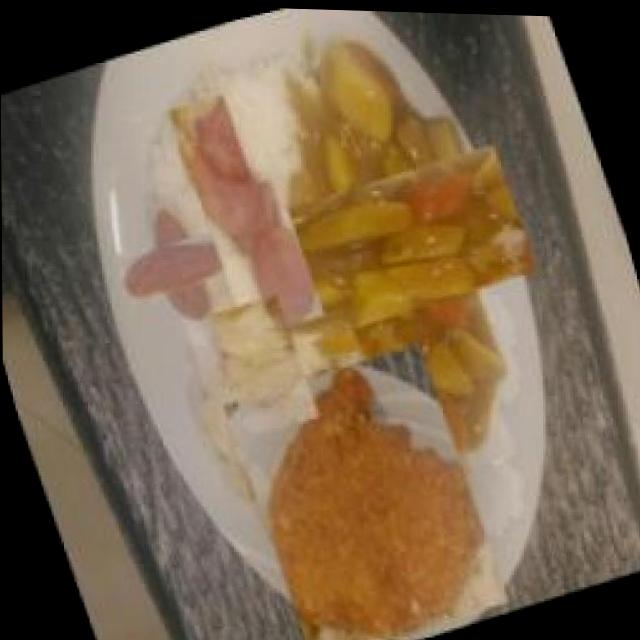chinese_cabbage: (195, 297, 328, 434)
chinese_sausage: (163, 79, 325, 346), (124, 211, 230, 318)
curry: (261, 111, 520, 375)
fried_chicken: (217, 327, 512, 640)
rice: (213, 50, 307, 185)
